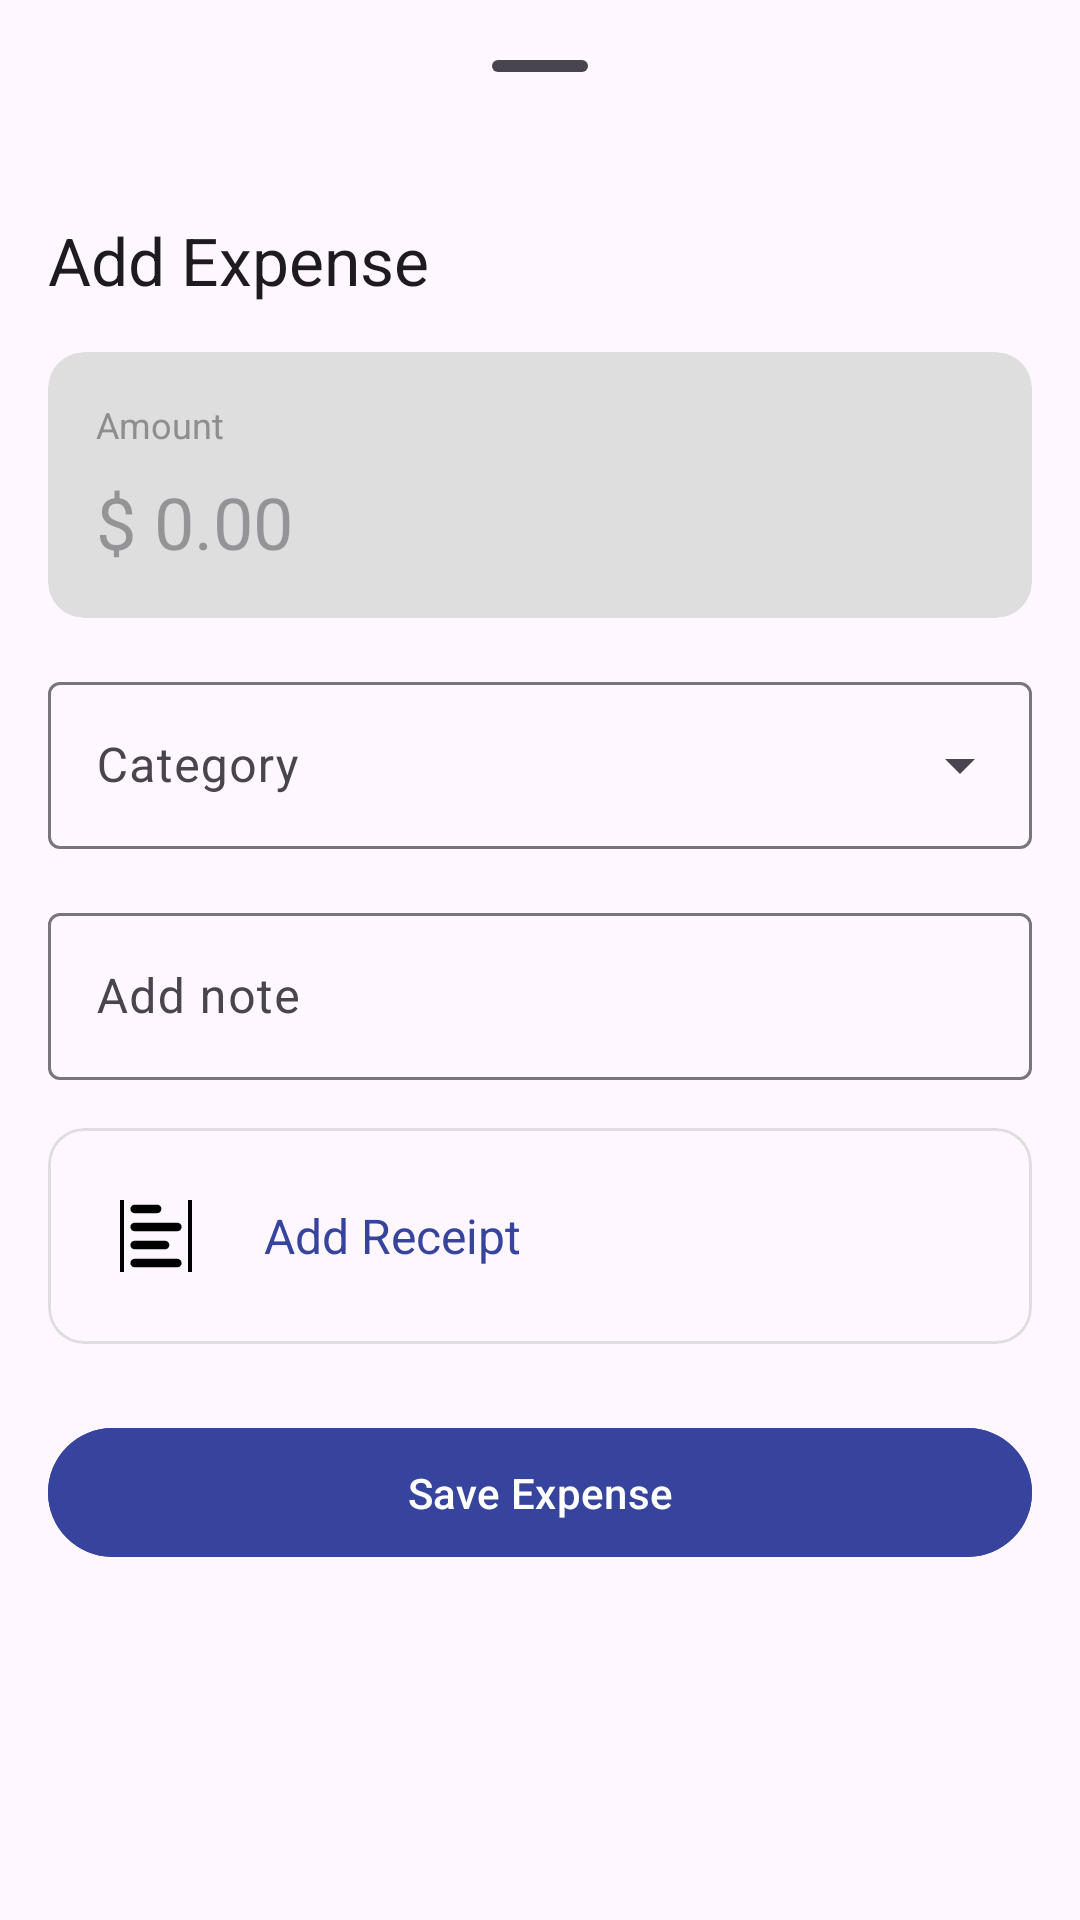

Locate icon controls on the screen. Image size 1080*1920, boxes as (x1, y1, x2, y2).
recipt: (120, 1200, 192, 1272)
